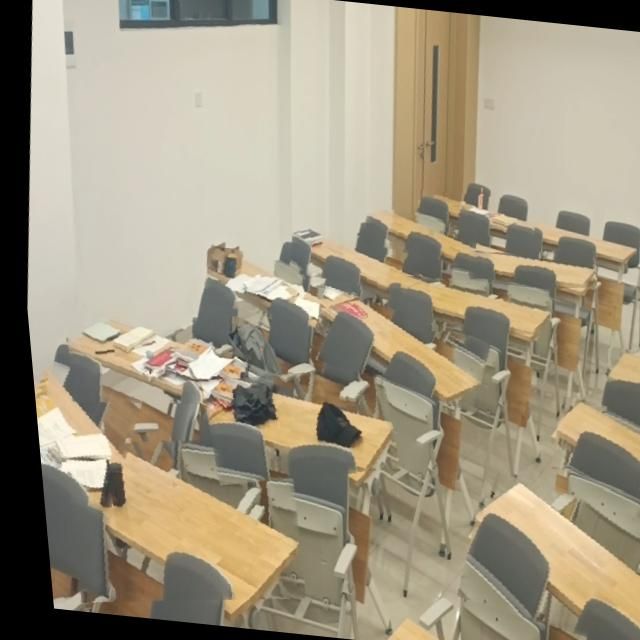Non-empty: (61, 442, 289, 599), (200, 378, 383, 473), (313, 296, 472, 403), (61, 316, 240, 404), (27, 359, 114, 495), (203, 249, 342, 329), (288, 228, 415, 293), (413, 191, 531, 240)
empty: (466, 481, 640, 640), (397, 277, 544, 333), (549, 400, 640, 489), (362, 208, 471, 265), (462, 252, 590, 287), (601, 349, 640, 387)
